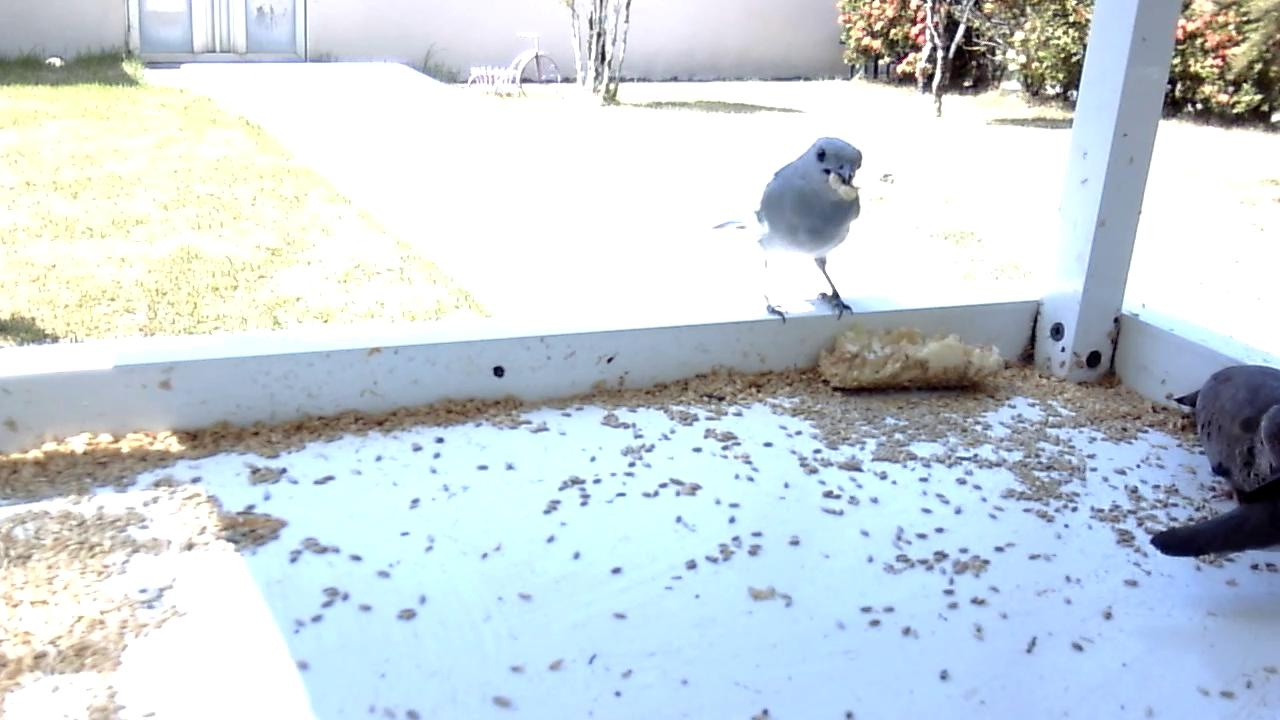rolinha: (1168, 357, 1280, 509)
sanhaco_da_amazonia: (709, 132, 865, 323)
